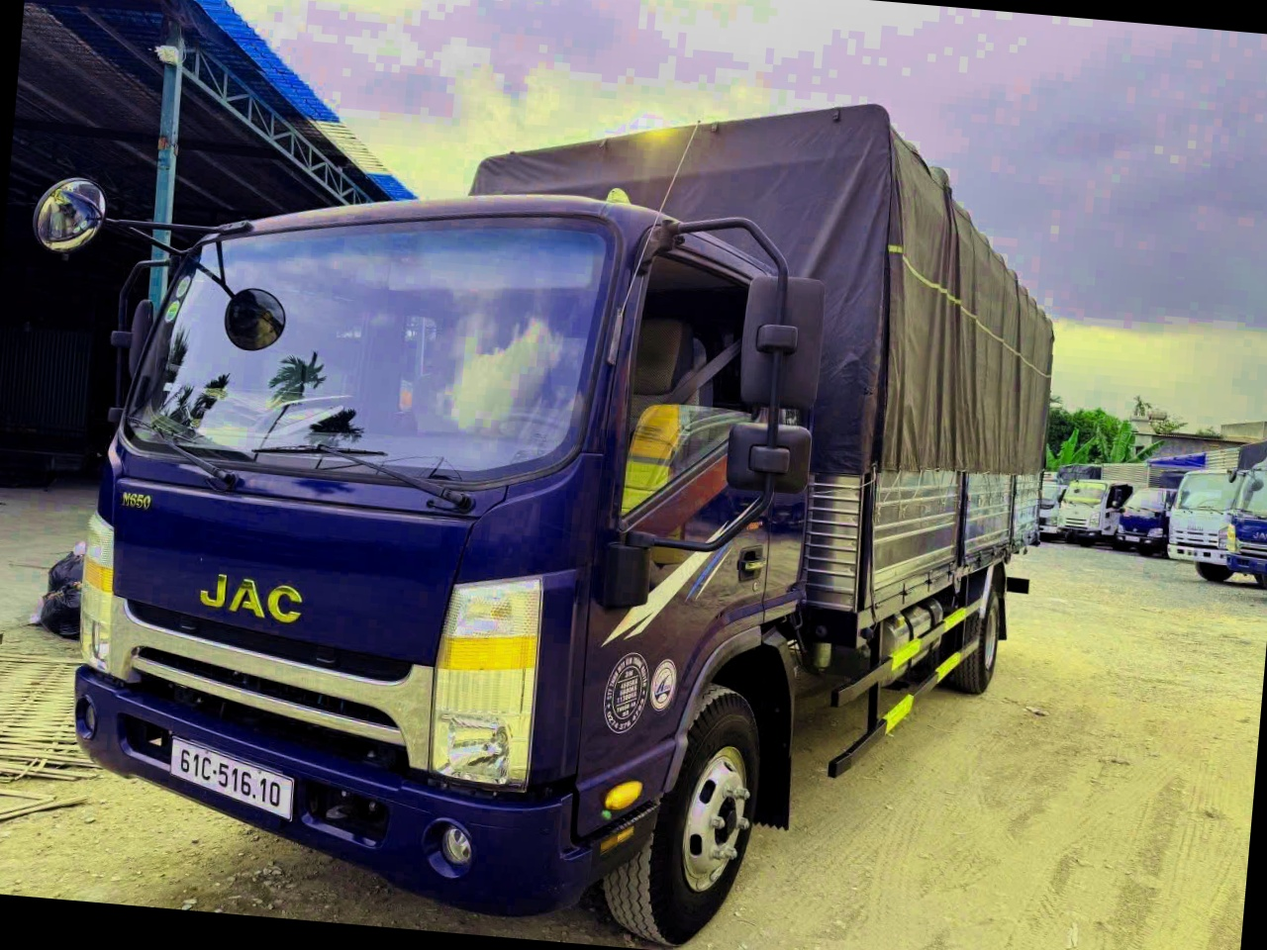Bien-so: (206, 780, 329, 846)
